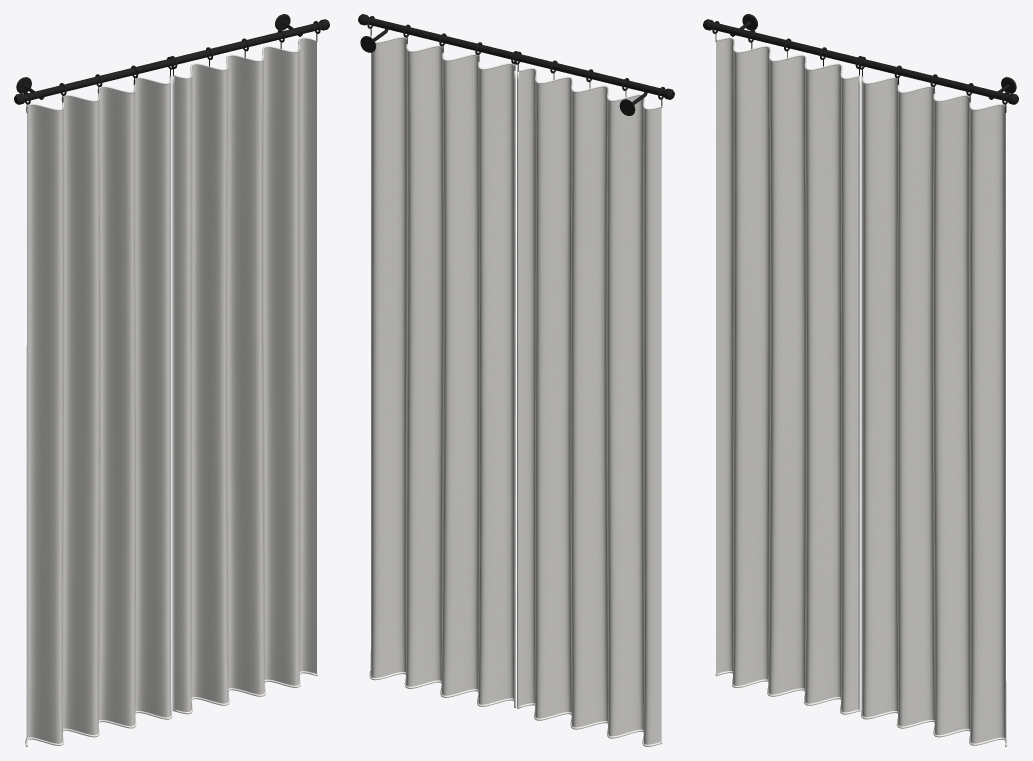
The model's file is cortina_onda_120_c100.glb.
3 renders of one model, left to right at view 1: azimuth 30°, elevation 25°; view 2: azimuth 150°, elevation 25°; view 3: azimuth 330°, elevation 25°, orthographic.
Visible parts, largest first — view 1: cortina_onda_120_c100; view 2: cortina_onda_120_c100; view 3: cortina_onda_120_c100.
Boxes of the visible parts, bbox=[...] form: cortina_onda_120_c100: bbox=[14, 14, 329, 746]; cortina_onda_120_c100: bbox=[358, 14, 674, 746]; cortina_onda_120_c100: bbox=[703, 14, 1018, 746].
Bounding box in the file's own units: 1.2 × 2.39 × 0.1789.
2 materials, 1 textured.
